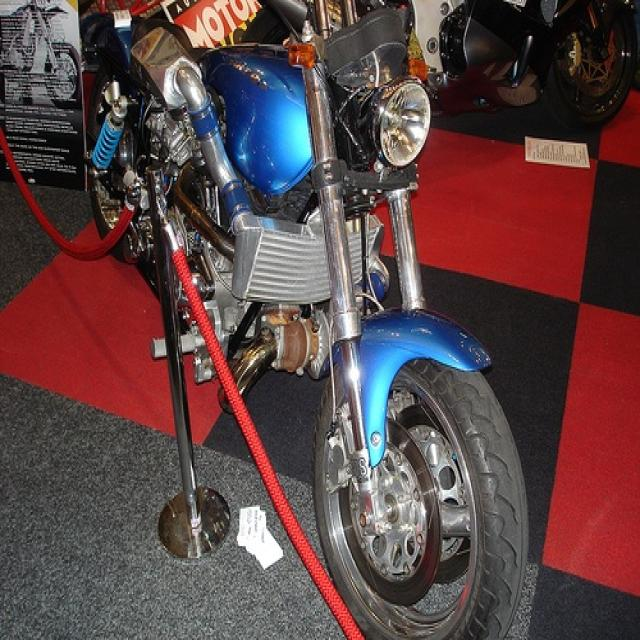motorbike: (77, 17, 530, 635)
